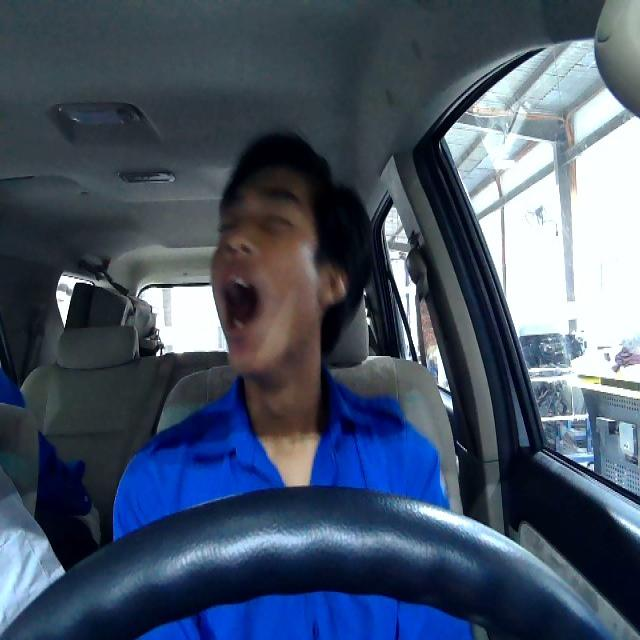yarning: (208, 166, 345, 374)
